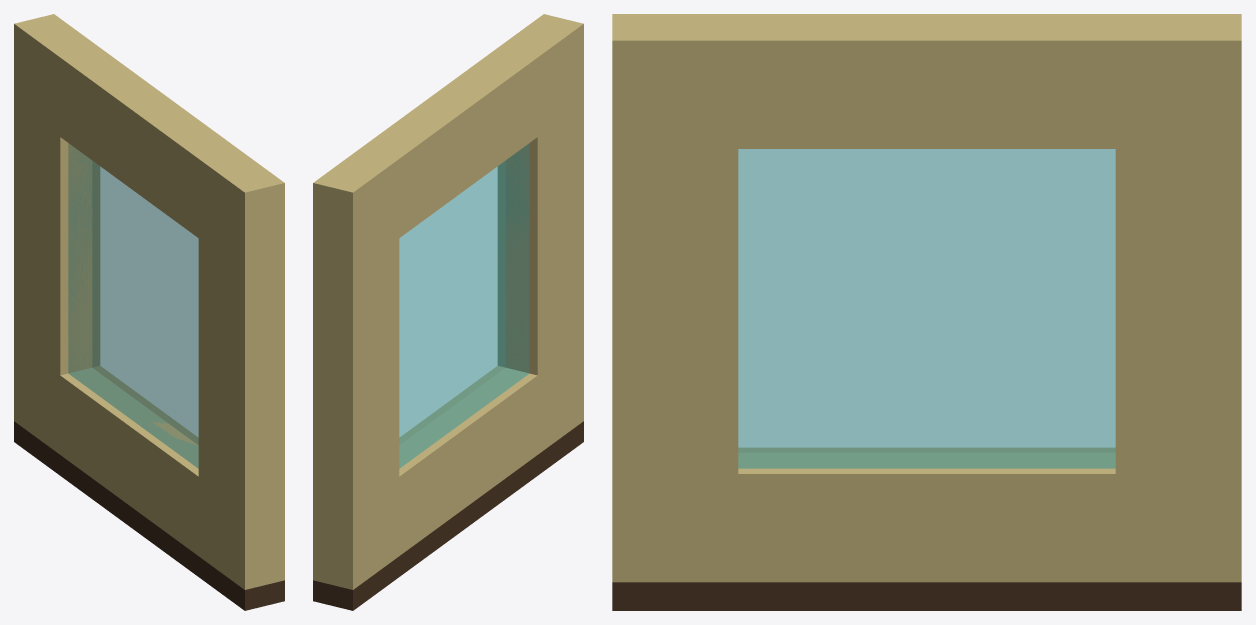
Rendered from Convenience Wall Window 1.fbx.
3 renders of one model, left to right at view 1: azimuth 30°, elevation 25°; view 2: azimuth 150°, elevation 25°; view 3: azimuth 270°, elevation 25°, orthographic. The views are drawn at different scales.
Visible parts, largest first — view 1: Convenience Wall Window 1; view 2: Convenience Wall Window 1; view 3: Convenience Wall Window 1.
Part boxes in pixels (x1=…): Convenience Wall Window 1: x1=14, y1=14, x2=284, y2=610; Convenience Wall Window 1: x1=313, y1=14, x2=583, y2=610; Convenience Wall Window 1: x1=612, y1=14, x2=1241, y2=610.
Bounding box in the file's own units: 100 × 1000 × 1000.
